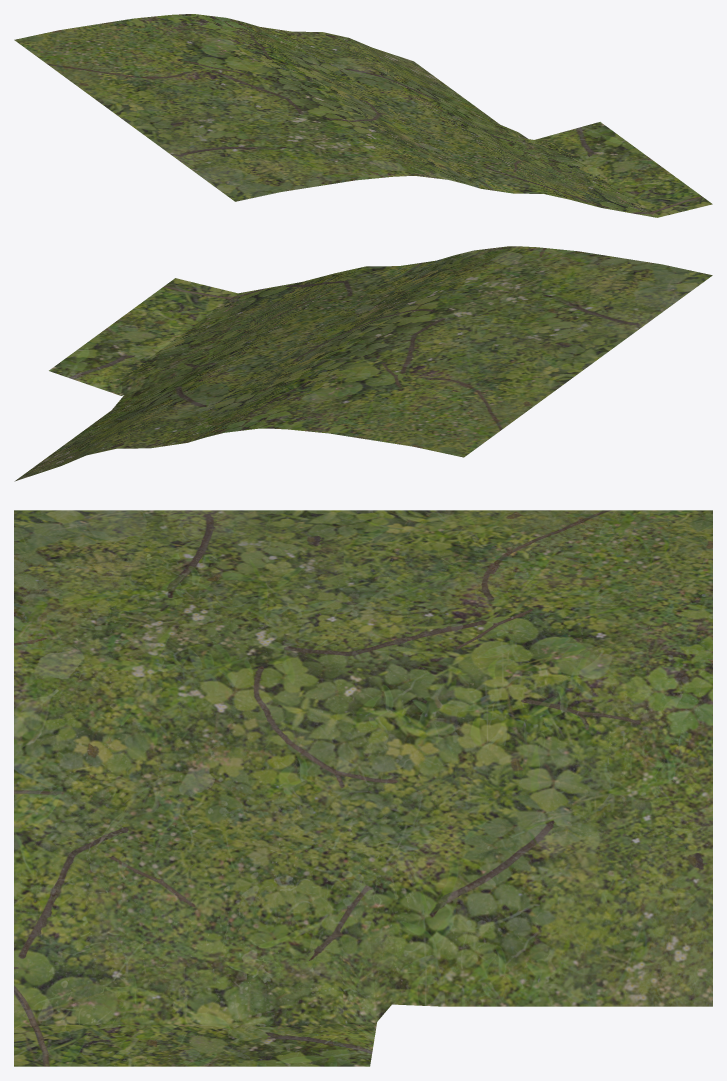
The model's file is GrassSlopeStairsLeft.fbx.
3 views of the same model, one above another, from view 1: azimuth 30°, elevation 25°; view 2: azimuth 150°, elevation 25°; view 3: azimuth 270°, elevation 25° (orthographic). The views are drawn at different scales.
Visible parts, largest first — view 1: GrassSlopeStairs_left_done; view 2: GrassSlopeStairs_left_done; view 3: GrassSlopeStairs_left_done.
Part boxes in pixels (x1,y1,x2,y2): GrassSlopeStairs_left_done: [14, 14, 712, 217]; GrassSlopeStairs_left_done: [14, 246, 712, 481]; GrassSlopeStairs_left_done: [14, 510, 712, 1066].
Size of the model in its own units: 318 by 78.52 by 255.
1 material, 1 textured.
